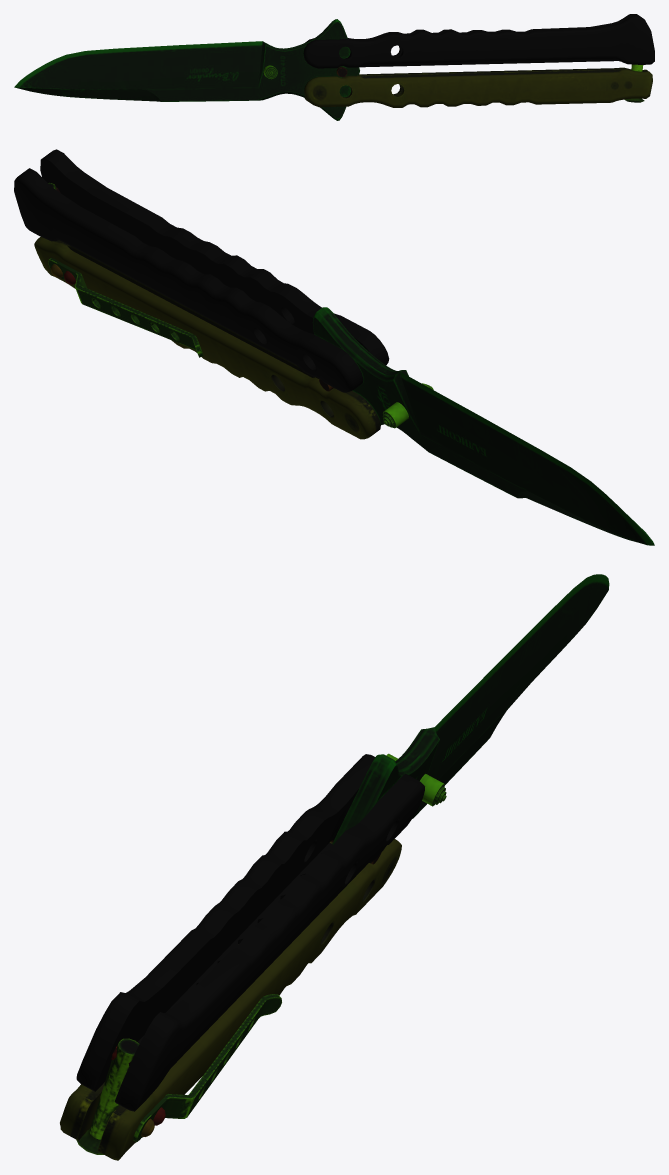
File: butterfly.glb
The picture shows the model from 3 angles, top to bottom: view 1: azimuth 30°, elevation 25°; view 2: azimuth 150°, elevation 25°; view 3: azimuth 270°, elevation 25°; orthographic projection. The views are drawn at different scales.
Visible parts, largest first — view 1: defaultMaterial; view 2: defaultMaterial; view 3: defaultMaterial.
Part boxes in pixels (<box>): defaultMaterial: <box>14,14,654,120</box>; defaultMaterial: <box>14,149,654,545</box>; defaultMaterial: <box>60,574,609,1160</box>.
Bounding box in the file's own units: 4 × 0.6486 × 1.83.
2 materials, 2 textured.
